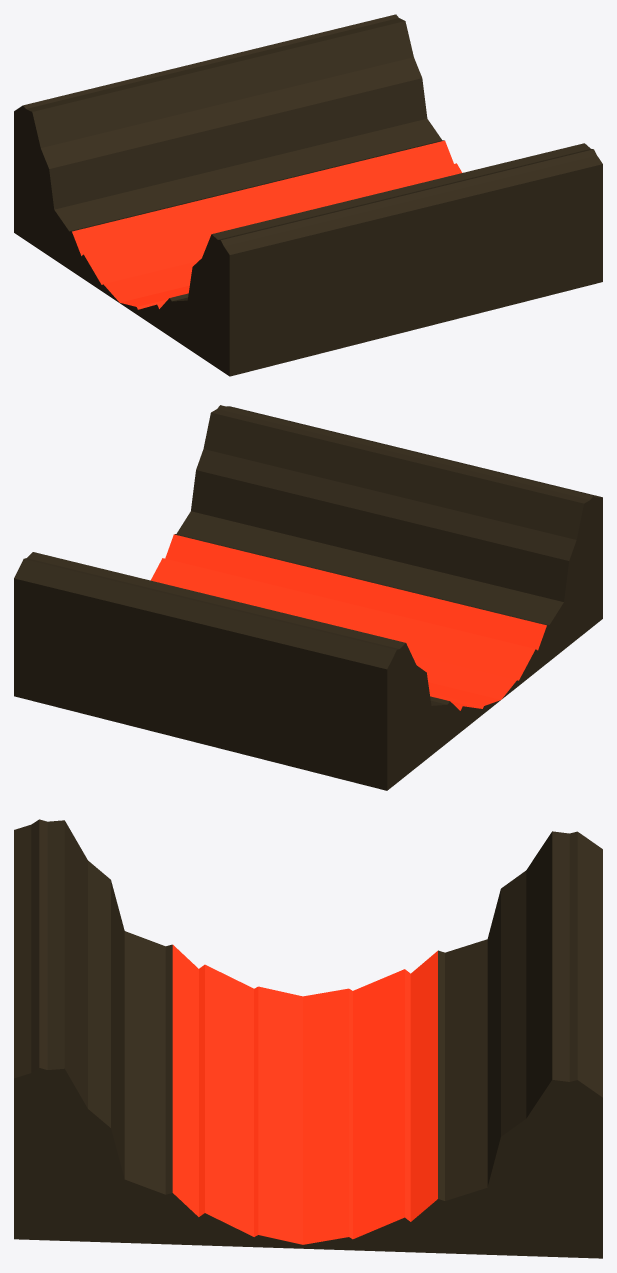
The model's file is Pit Tile Final Middle.fbx.
3 views of the same model, one above another, from view 1: azimuth 30°, elevation 25°; view 2: azimuth 150°, elevation 25°; view 3: azimuth 270°, elevation 25° (orthographic). The views are drawn at different scales.
Parts seen in each view (by area): view 1: Middle Pit Tile; view 2: Middle Pit Tile; view 3: Middle Pit Tile.
Boxes of the visible parts, bbox=[...] form: Middle Pit Tile: bbox=[14, 14, 602, 376]; Middle Pit Tile: bbox=[14, 405, 602, 790]; Middle Pit Tile: bbox=[14, 819, 602, 1258].
Size of the model in its own units: 202 by 73.41 by 200.
